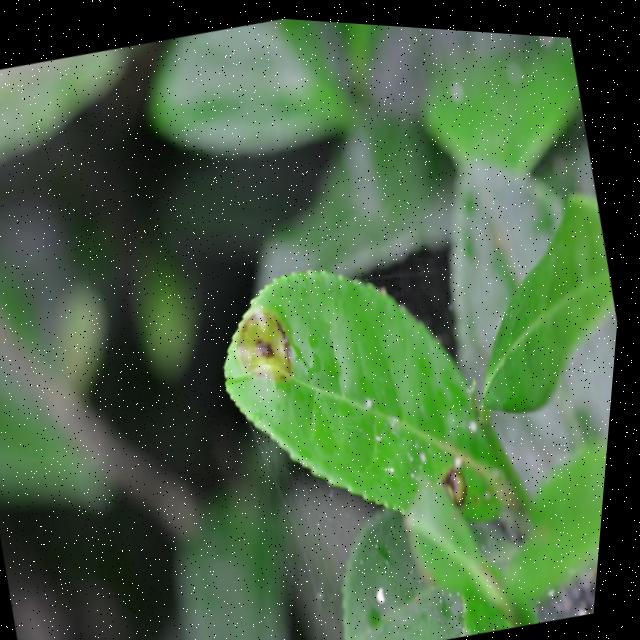Tea cake: (232, 296, 318, 392), (443, 454, 480, 509)
